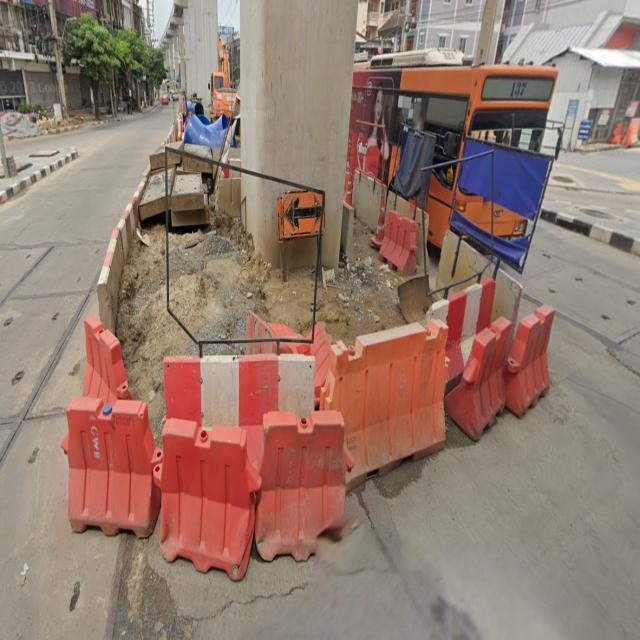fallen_object: (295, 316, 457, 475), (409, 279, 558, 435), (42, 377, 156, 546), (249, 397, 368, 555), (149, 416, 259, 585), (152, 342, 325, 442), (366, 200, 486, 309), (55, 196, 146, 314), (63, 312, 142, 436)
